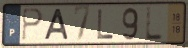7: (73, 4, 91, 44)
9: (121, 6, 140, 42)
A: (43, 8, 71, 42)
L: (144, 6, 165, 42), (97, 8, 115, 41)
P: (21, 8, 44, 43)
